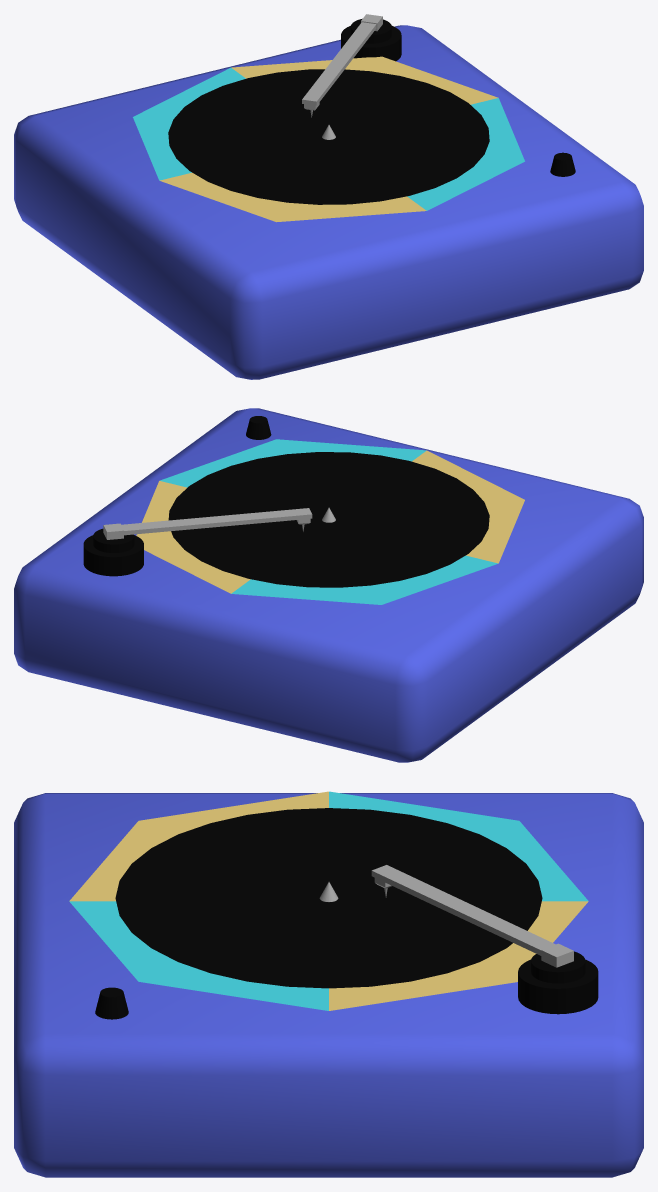
3 renders of one model, top to bottom at view 1: azimuth 30°, elevation 25°; view 2: azimuth 150°, elevation 25°; view 3: azimuth 270°, elevation 25°, orthographic. The views are drawn at different scales.
Parts seen in each view (by area): view 1: case.001, case.003; view 2: case.001, case.003; view 3: case.001, case.003.
Part boxes in pixels (bbox=[...]): case.001: bbox=[14, 18, 643, 379]; case.003: bbox=[302, 14, 382, 117]; case.001: bbox=[14, 408, 643, 762]; case.003: bbox=[103, 508, 312, 539]; case.001: bbox=[14, 791, 643, 1177]; case.003: bbox=[371, 865, 573, 967].
Bounding box in the file's own units: 1 × 1 × 0.3323.
